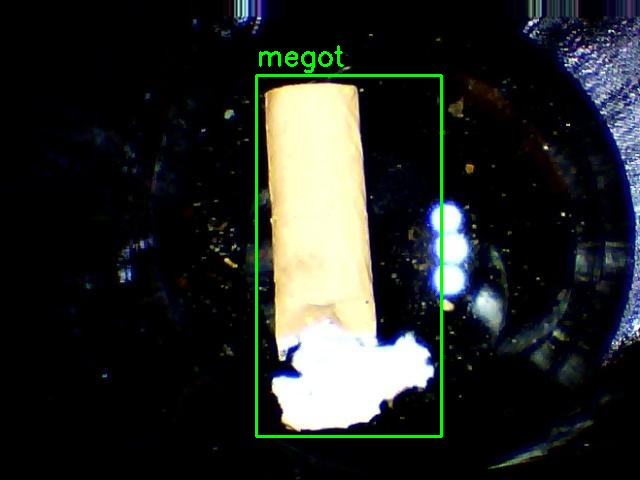megot: (256, 75, 441, 436)
